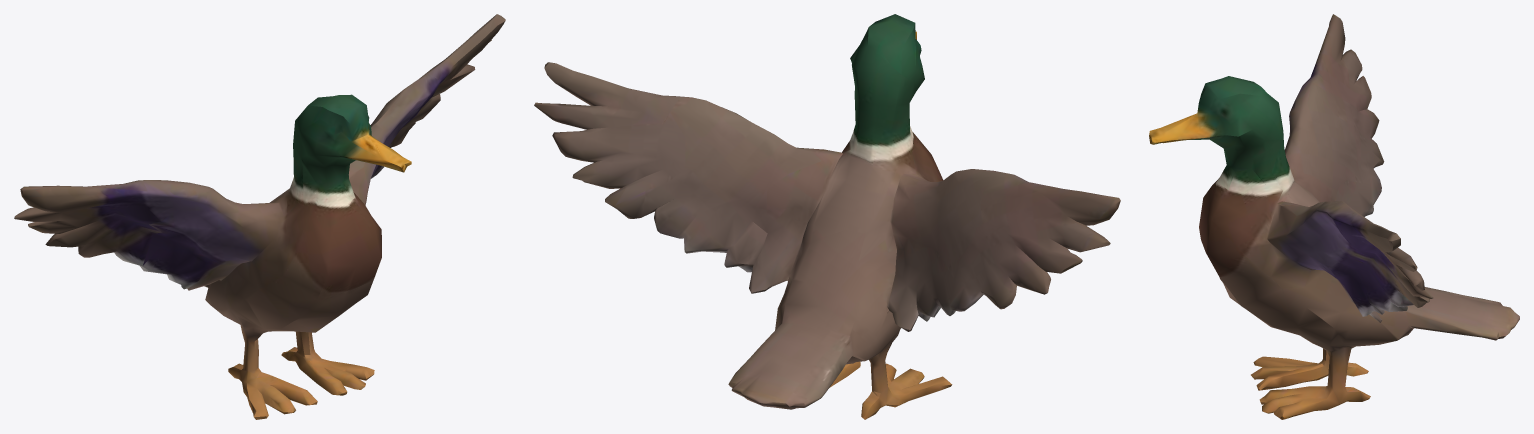
The model's file is duck_idle.glb.
3 renders of one model, left to right at view 1: azimuth 30°, elevation 25°; view 2: azimuth 150°, elevation 25°; view 3: azimuth 270°, elevation 25°, orthographic. The views are drawn at different scales.
Visible parts, largest first — view 1: bird_duck; view 2: bird_duck; view 3: bird_duck.
Part boxes in pixels (<box>): bird_duck: <box>14,14,505,419</box>; bird_duck: <box>534,14,1120,419</box>; bird_duck: <box>1149,14,1519,419</box>.
Bounding box in the file's own units: 0.5056 × 0.3004 × 0.3165.
Materials: 1 (1 with a texture image).
